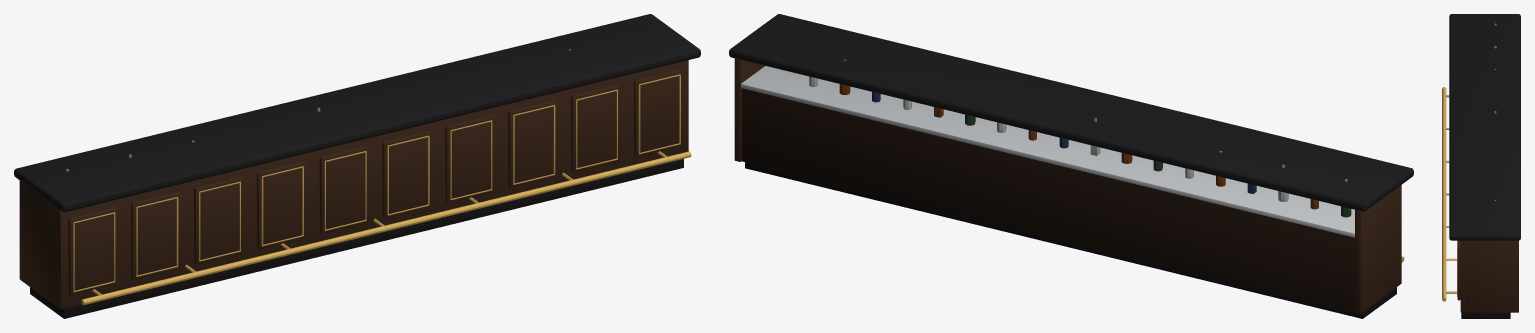
The model's file is bar_counter.glb.
3 views of the same model, side by side, from view 1: azimuth 30°, elevation 25°; view 2: azimuth 150°, elevation 25°; view 3: azimuth 270°, elevation 25° (orthographic). The views are drawn at different scales.
Visible parts, largest first — view 1: bar_counter; view 2: bar_counter; view 3: bar_counter.
Boxes of the visible parts, x1=… form: bar_counter: x1=14, y1=14, x2=700, y2=318; bar_counter: x1=729, y1=14, x2=1413, y2=318; bar_counter: x1=1442, y1=14, x2=1520, y2=318.
Size of the model in its own units: 6.1 by 1.15 by 0.915.
